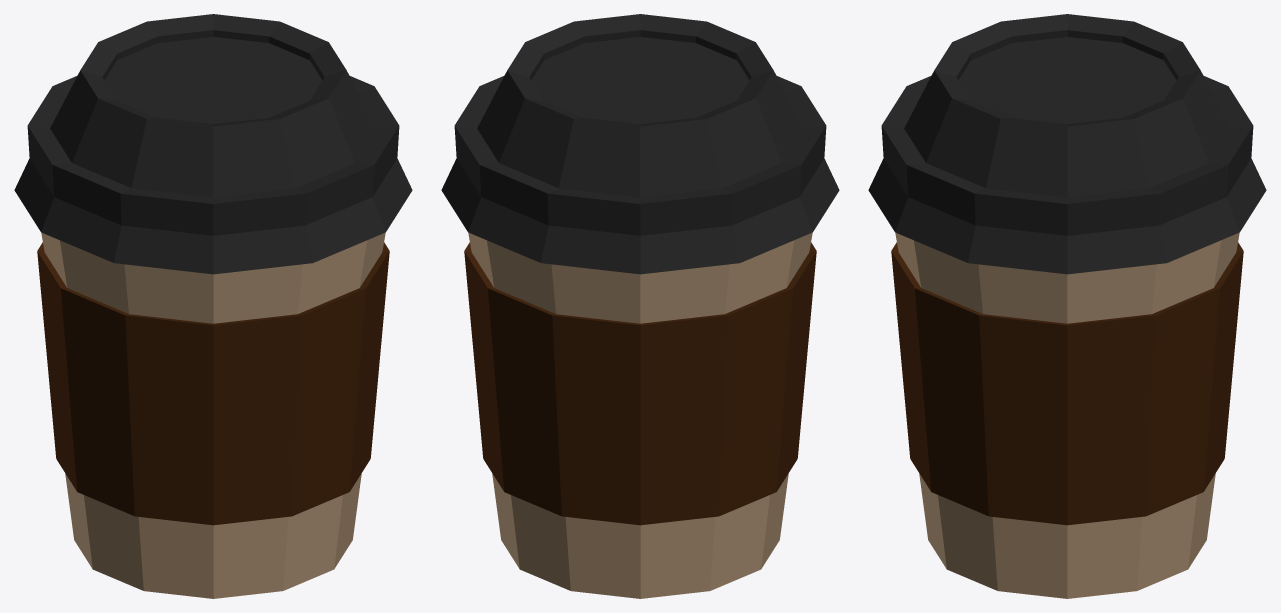
The model's file is coffeecup.fbx.
3 renders of one model, left to right at view 1: azimuth 30°, elevation 25°; view 2: azimuth 150°, elevation 25°; view 3: azimuth 270°, elevation 25°, orthographic.
Parts seen in each view (by area): view 1: coffeecup; view 2: coffeecup; view 3: coffeecup.
Part boxes in pixels (x1,y1,x2,y2): coffeecup: [14, 14, 412, 598]; coffeecup: [441, 14, 839, 598]; coffeecup: [868, 14, 1266, 598].
Bounding box in the file's own units: 69.89 × 90.98 × 69.89.
